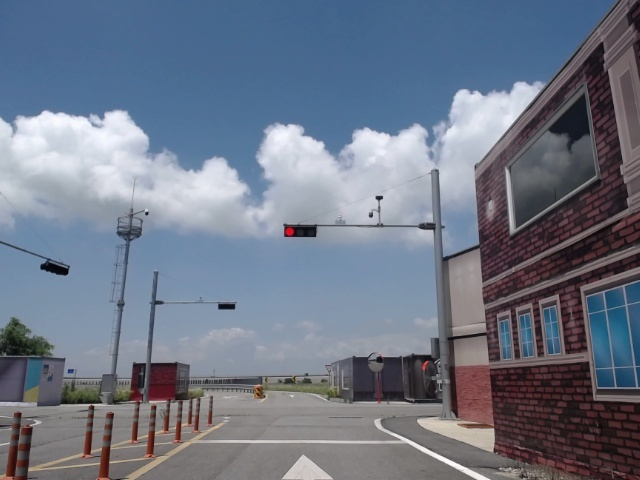red_3: (284, 225, 318, 239)
